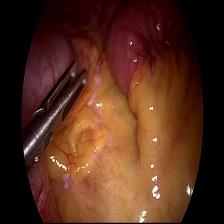Grasper: (22, 57, 90, 174)
